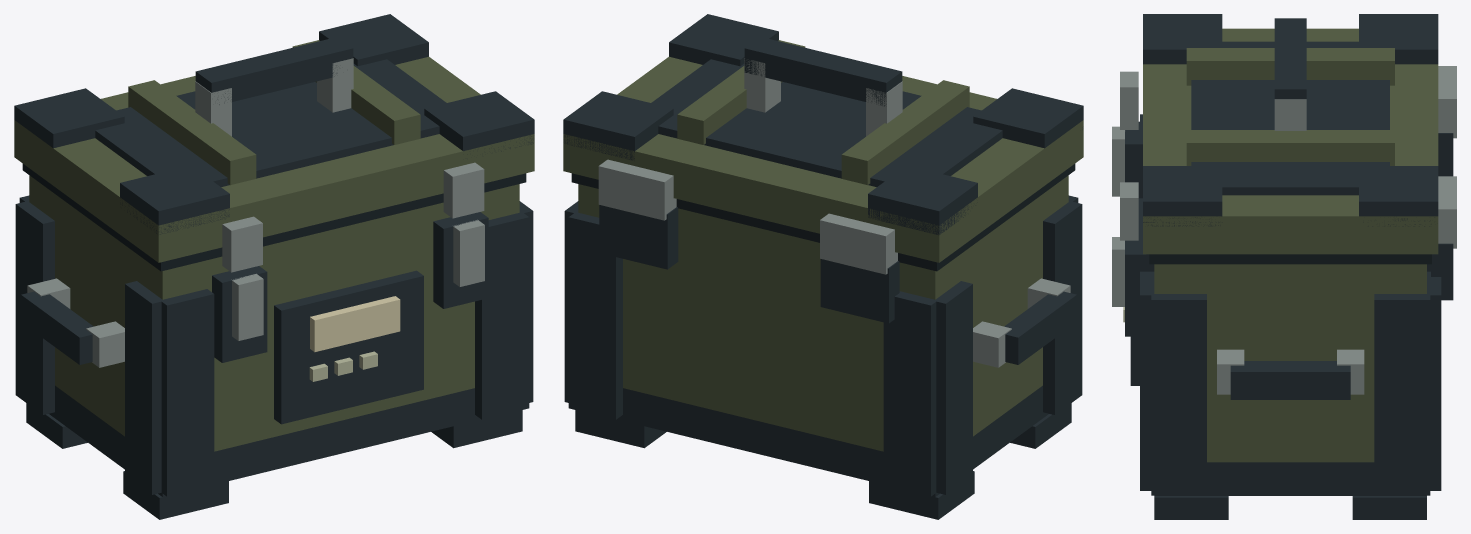
File: FSA_CRATE_001_SmallCommon.glb
The picture shows the model from 3 angles, left to right: view 1: azimuth 30°, elevation 25°; view 2: azimuth 150°, elevation 25°; view 3: azimuth 270°, elevation 25°; orthographic projection. The views are drawn at different scales.
Parts seen in each view (by area): view 1: LidShell, FrontWall, TopInset, FrontPanel, SideWall_-1, Base, CornerFront_-1_1, CornerFront_1_1, CornerSide_-1_1, CornerSide_-1_-1, TopHandleGrip, TopRib_-0_078 (+22 smaller); view 2: BackWall, LidShell, TopInset, SideWall_-1, Base, CornerFront_-1_-1, CornerFront_1_-1, CornerSide_-1_-1, CornerSide_-1_1, TopHandleGrip, LidCorner_-1_-1, TopRib_-0_078 (+18 smaller); view 3: SideWall_1, LidShell, TopInset, CornerSide_1_-1, CornerSide_1_1, TopRib_0_078, Base, TopRib_-0_078, SideGrip_1, LidCorner_1_1, LidCorner_1_-1, LidCorner_-1_1 (+23 smaller).
Boxes of the visible parts, bbox=[...] form: LidShell: bbox=[14, 56, 534, 262]; FrontWall: bbox=[149, 184, 519, 451]; TopInset: bbox=[95, 59, 446, 187]; FrontPanel: bbox=[274, 270, 423, 424]; SideWall_-1: bbox=[42, 185, 149, 436]; Base: bbox=[49, 385, 480, 496]; CornerFront_-1_1: bbox=[159, 289, 214, 496]; CornerFront_1_1: bbox=[475, 213, 529, 419]; CornerSide_-1_1: bbox=[125, 281, 166, 494]; CornerSide_-1_-1: bbox=[15, 202, 54, 414]; TopHandleGrip: bbox=[195, 37, 353, 104]; TopRib_-0_078: bbox=[128, 80, 256, 185]; BackWall: bbox=[578, 184, 948, 451]; LidShell: bbox=[563, 56, 1083, 262]; TopInset: bbox=[651, 59, 1002, 187]; SideWall_-1: bbox=[948, 185, 1055, 436]; Base: bbox=[617, 385, 1048, 496]; CornerFront_-1_-1: bbox=[883, 291, 937, 496]; CornerFront_1_-1: bbox=[568, 213, 622, 419]; CornerSide_-1_-1: bbox=[930, 281, 972, 494]; CornerSide_-1_1: bbox=[1043, 202, 1082, 414]; TopHandleGrip: bbox=[744, 37, 902, 106]; LidCorner_-1_-1: bbox=[868, 165, 977, 235]; TopRib_-0_078: bbox=[841, 80, 969, 185]; SideWall_1: bbox=[1177, 264, 1399, 462]; LidShell: bbox=[1143, 28, 1438, 254]; TopInset: bbox=[1191, 41, 1389, 195]; CornerSide_1_-1: bbox=[1374, 292, 1430, 495]; CornerSide_1_1: bbox=[1151, 292, 1206, 495]; TopRib_0_078: bbox=[1186, 130, 1394, 165]; Base: bbox=[1154, 462, 1426, 495]; TopRib_-0_078: bbox=[1186, 48, 1394, 85]; SideGrip_1: bbox=[1230, 361, 1350, 399]; LidCorner_1_1: bbox=[1143, 166, 1222, 226]; LidCorner_1_-1: bbox=[1359, 166, 1438, 226]; LidCorner_-1_1: bbox=[1143, 14, 1222, 64].
Size of the model in its own units: 0.427 by 0.334 by 0.278.
